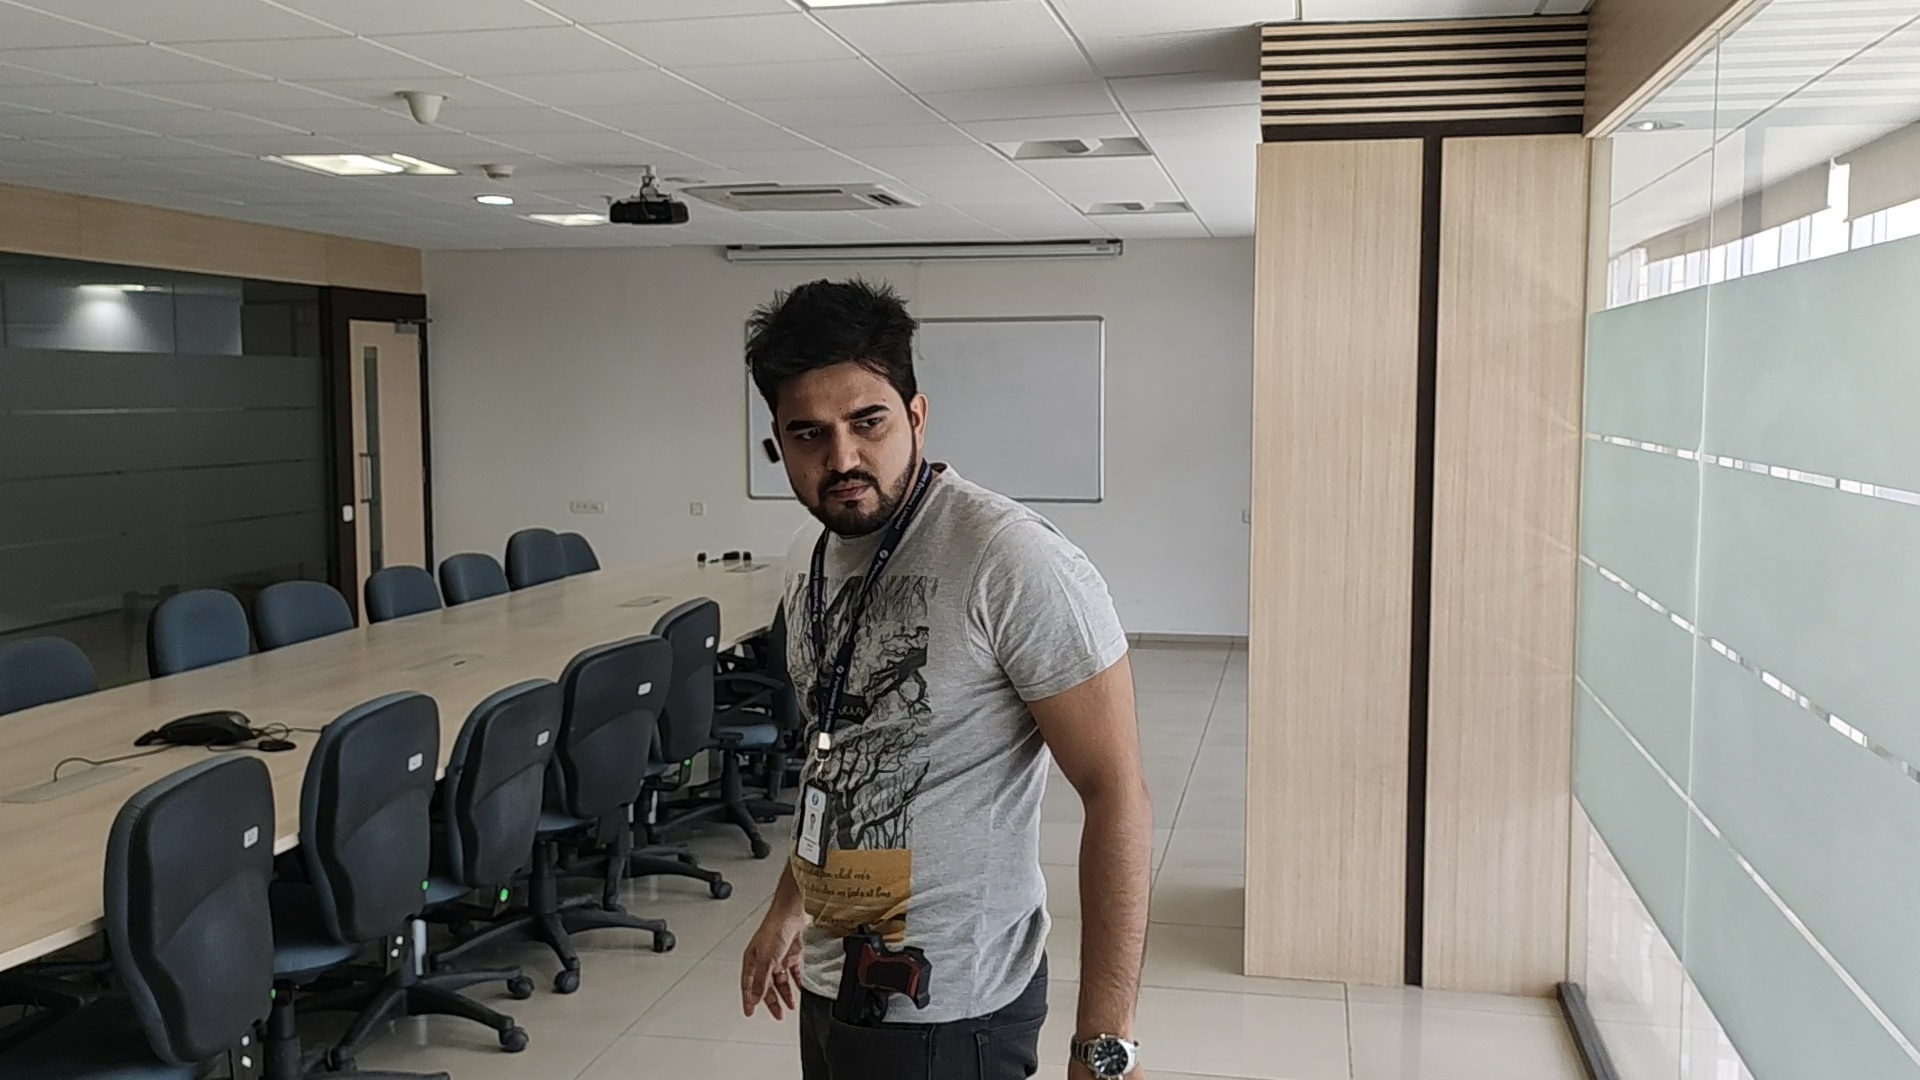gun: (843, 922, 931, 1025)
